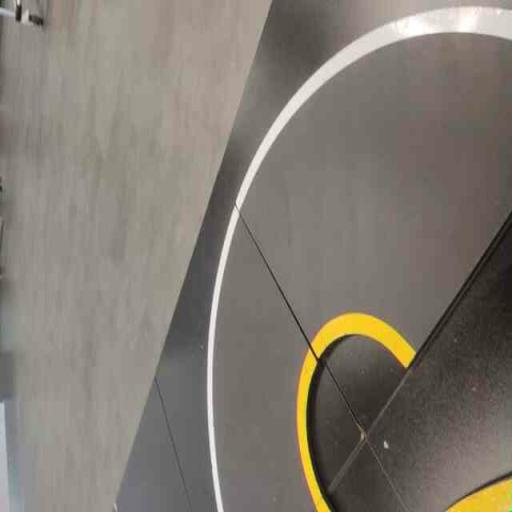left: (188, 260, 365, 512)
